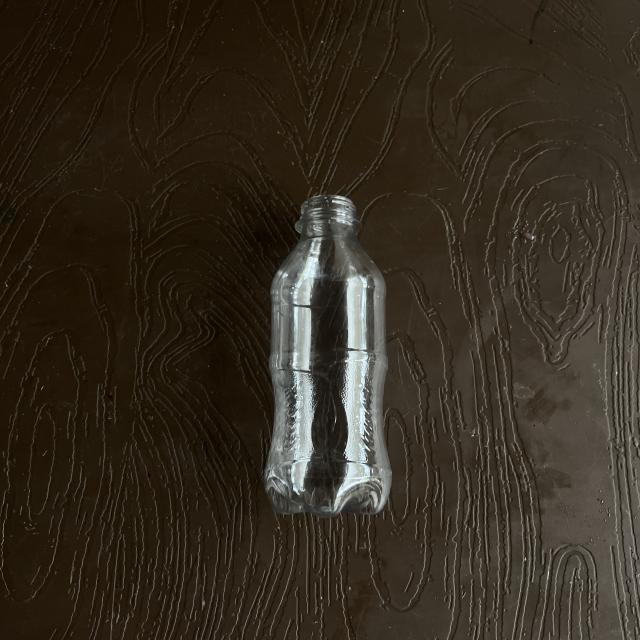PET_ClearBottle: (253, 186, 408, 511)
